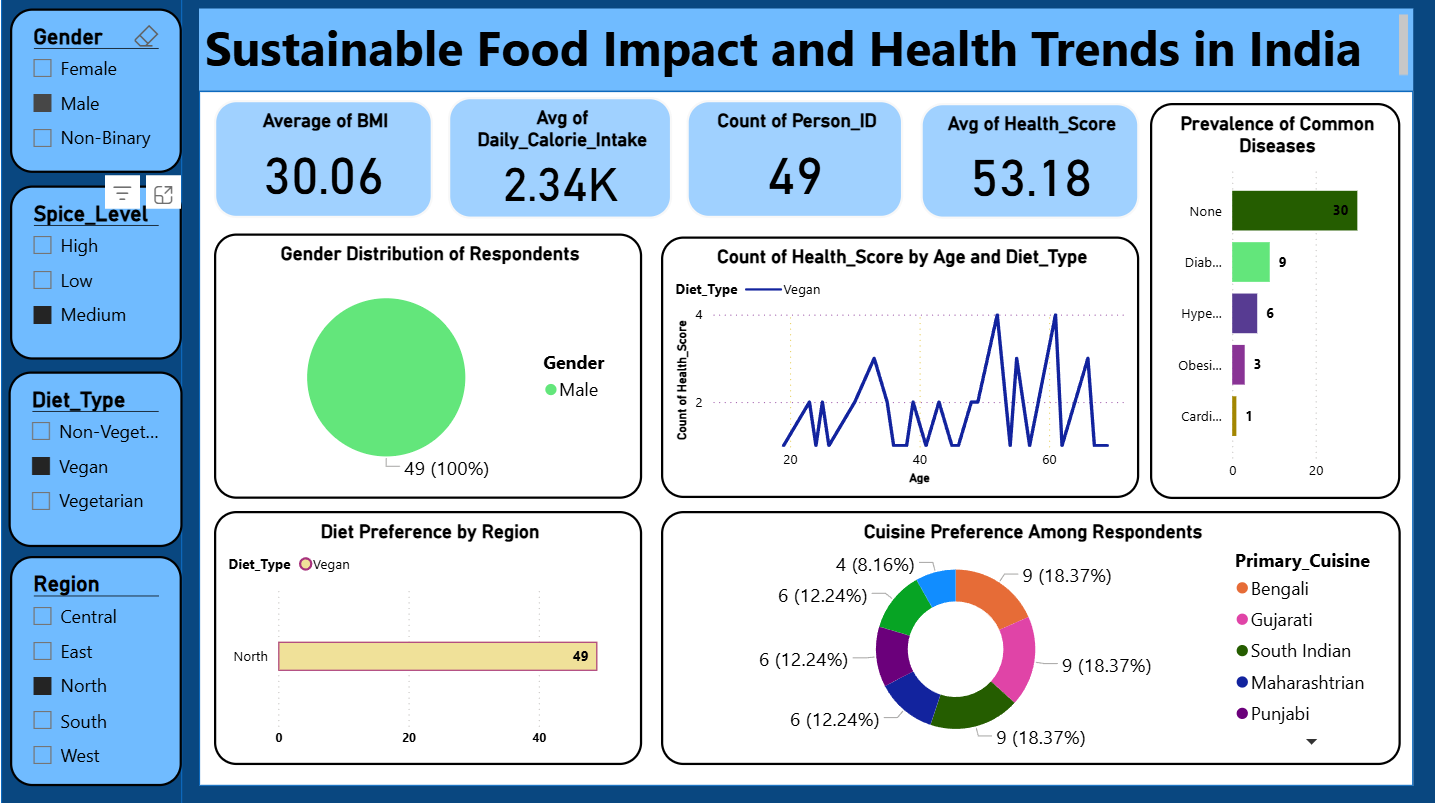

The dashboard page shown, as its layout file describes it:
{"tool":"powerbi","page":{"name":"Dashboard","canvas":[1280,720],"ordinal":0},"visuals":[{"type":"shape","box":[176.7,83.3,1083.3,620],"z":0},{"type":"shape","box":[0,0,161.7,720],"z":1000},{"type":"textbox","box":[176.7,10,1083.3,73.3],"z":2000},{"type":"card","title":"Average of BMI","fields":{"Values":["Avg(food_impact_india.BMI)"]},"box":[190,91.7,195,105],"z":3000},{"type":"card","title":"Avg of Daily_Calorie_Intake","fields":{"Values":["Avg(food_impact_india.Daily_Calorie_Intake)"]},"box":[398.3,88.3,200,108.3],"z":4000},{"type":"card","title":"Count of Person_ID","fields":{"Values":["CountNonNull(food_impact_india.Person_ID)"]},"box":[611.7,91.7,193.3,105],"z":5000},{"type":"card","title":"Avg of Health_Score","fields":{"Values":["Avg(food_impact_india.Health_Score)"]},"box":[820,93.3,195,103.3],"z":6000},{"type":"pieChart","title":"\tGender Distribution of Respondents","fields":{"Y":["Count(food_impact_india.Person_ID)"],"Category":["food_impact_india.Gender"]},"box":[190,210,381.7,236.7],"z":7000},{"type":"barChart","title":"\tDiet Preference by Region","fields":{"Y":["CountNonNull(food_impact_india.Person_ID)"],"Category":["food_impact_india.Region"],"Series":["food_impact_india.Diet_Type"]},"box":[190,458.3,381.7,226.7],"z":8000},{"type":"donutChart","title":"\tCuisine Preference Among Respondents","fields":{"Y":["CountNonNull(food_impact_india.Person_ID)"],"Category":["food_impact_india.Primary_Cuisine"]},"box":[588.3,458.3,660,226.7],"z":9000},{"type":"clusteredBarChart","title":"Prevalence of Common Diseases","fields":{"Y":["CountNonNull(food_impact_india.Person_ID)"],"Category":["food_impact_india.Common_Diseases"]},"box":[1025,93.3,223.3,353.3],"z":10000},{"type":"slicer","fields":{"Values":["food_impact_india.Gender"]},"box":[8.3,10,153.3,146.7],"z":11000},{"type":"slicer","fields":{"Values":["food_impact_india.Region"]},"box":[8.3,498.3,153.3,205],"z":12000},{"type":"slicer","fields":{"Values":["food_impact_india.Diet_Type"]},"box":[6.7,333.3,155,156.7],"z":13000},{"type":"slicer","fields":{"Values":["food_impact_india.Spice_Level"]},"box":[8.3,166.7,153.3,155],"z":14000},{"type":"lineChart","fields":{"Y":["Count(food_impact_india.Health_Score)"],"Series":["food_impact_india.Diet_Type"],"Category":["food_impact_india.Age"]},"box":[588.3,213.3,426.7,233.3],"z":15000}]}

Visuals, with their boxes in screenshot pixels (x1, y1, x2, y2), scaled from the page's 1280x720 canvas onto the 1435x803 screenshot:
shape: x1=198, y1=93, x2=1413, y2=784
shape: x1=0, y1=0, x2=181, y2=802
textbox: x1=198, y1=11, x2=1413, y2=93
"Average of BMI" card: x1=213, y1=102, x2=432, y2=219
"Avg of Daily_Calorie_Intake" card: x1=447, y1=98, x2=671, y2=219
"Count of Person_ID" card: x1=686, y1=102, x2=902, y2=219
"Avg of Health_Score" card: x1=919, y1=104, x2=1138, y2=219
"	Gender Distribution of Respondents" pieChart: x1=213, y1=234, x2=641, y2=498
"	Diet Preference by Region" barChart: x1=213, y1=511, x2=641, y2=764
"	Cuisine Preference Among Respondents" donutChart: x1=660, y1=511, x2=1399, y2=764
"Prevalence of Common Diseases" clusteredBarChart: x1=1149, y1=104, x2=1399, y2=498
slicer - food_impact_india.Gender: x1=9, y1=11, x2=181, y2=175
slicer - food_impact_india.Region: x1=9, y1=556, x2=181, y2=784
slicer - food_impact_india.Diet_Type: x1=8, y1=372, x2=181, y2=546
slicer - food_impact_india.Spice_Level: x1=9, y1=186, x2=181, y2=359
lineChart - Count(food_impact_india.Health_Score) x food_impact_india.Diet_Type: x1=660, y1=238, x2=1138, y2=498
